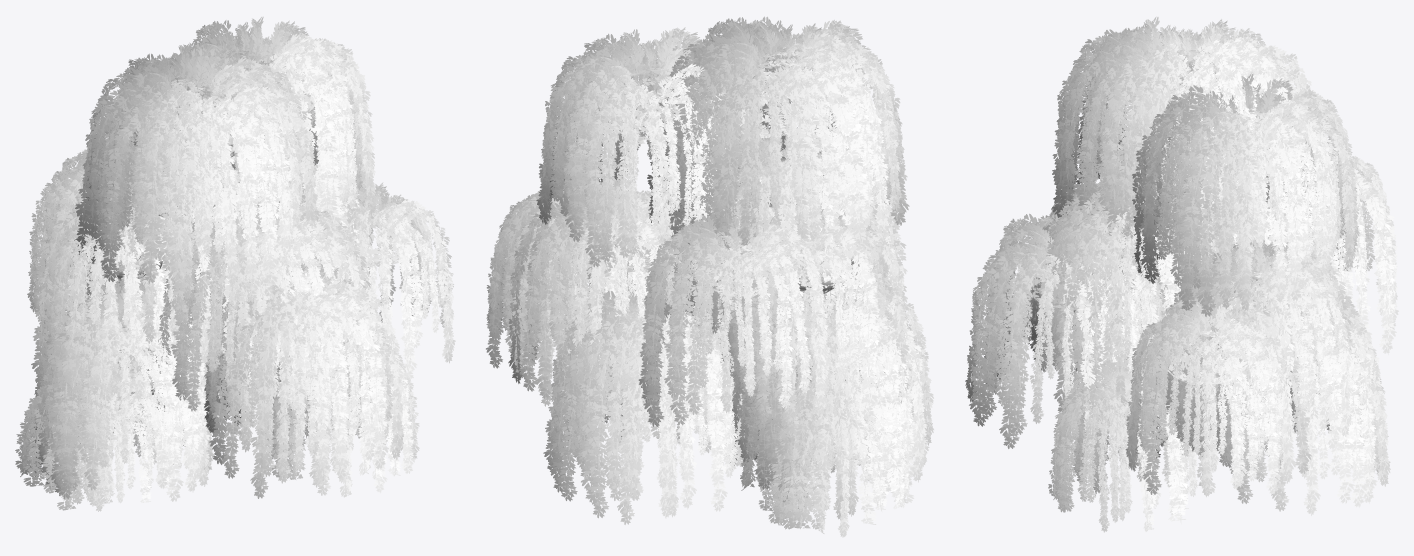
File: SM_Env_Tree_02.fbx
3 views of the same model, side by side, from view 1: azimuth 30°, elevation 25°; view 2: azimuth 150°, elevation 25°; view 3: azimuth 270°, elevation 25° (orthographic). The views are drawn at different scales.
Parts seen in each view (by area): view 1: SM_Env_Tree_02_LOD0; view 2: SM_Env_Tree_02_LOD0; view 3: SM_Env_Tree_02_LOD0.
Boxes of the visible parts, left/top/right/bottom form: SM_Env_Tree_02_LOD0: left=15, top=16, right=455, bottom=511; SM_Env_Tree_02_LOD0: left=486, top=16, right=933, bottom=537; SM_Env_Tree_02_LOD0: left=965, top=16, right=1398, bottom=532.
Size of what is drawn, in the model's own units: 1842 by 1913 by 1655.
